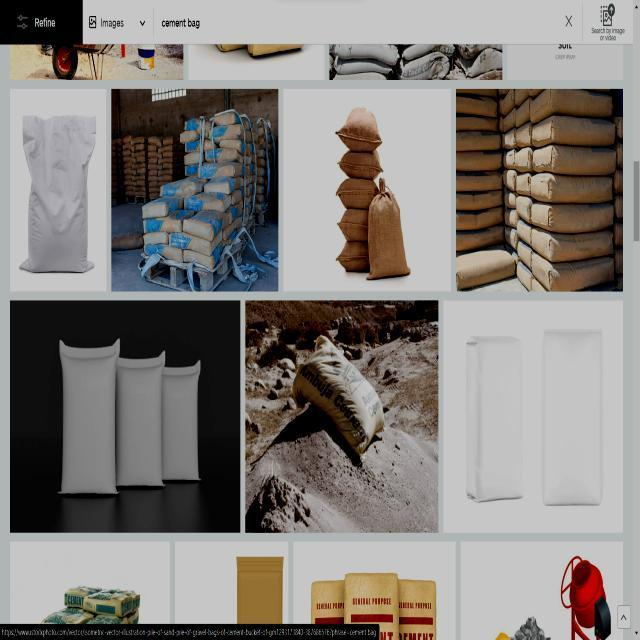gunny_bag: (19, 114, 95, 272), (292, 335, 385, 457), (59, 338, 119, 495), (115, 350, 165, 487), (161, 359, 200, 481), (367, 177, 411, 279), (532, 226, 615, 262), (457, 244, 517, 289), (533, 143, 617, 175), (532, 201, 615, 232), (532, 171, 614, 202), (336, 105, 382, 151), (168, 229, 222, 255), (183, 209, 227, 240), (338, 148, 383, 178), (336, 177, 379, 208), (169, 230, 222, 255), (457, 205, 505, 230), (143, 209, 191, 232), (336, 240, 370, 271), (457, 169, 504, 191), (338, 208, 369, 240), (457, 188, 504, 209), (457, 149, 503, 170), (142, 195, 183, 218), (160, 177, 204, 196), (505, 146, 534, 171), (203, 176, 243, 193), (205, 147, 243, 162), (516, 95, 534, 126), (516, 145, 536, 172), (517, 260, 534, 291), (518, 194, 536, 223), (517, 217, 533, 245), (504, 126, 517, 148), (505, 188, 517, 208), (184, 151, 199, 164)
